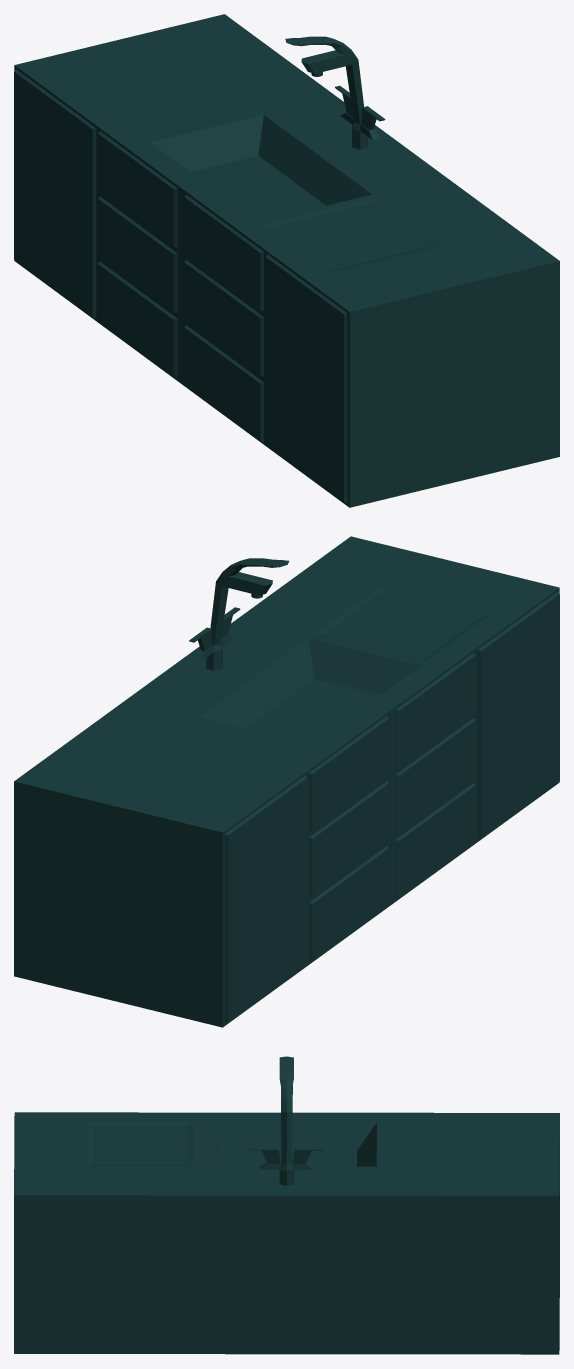
The model's file is Sink.FBX.
3 renders of one model, top to bottom at view 1: azimuth 30°, elevation 25°; view 2: azimuth 150°, elevation 25°; view 3: azimuth 270°, elevation 25°, orthographic. The views are drawn at different scales.
Parts seen in each view (by area): view 1: sink table, tap; view 2: sink table, tap; view 3: sink table, tap.
Boxes of the visible parts, <box> form: sink table: <box>14,14,559,507</box>; tap: <box>285,36,385,149</box>; sink table: <box>14,536,559,1027</box>; tap: <box>189,558,289,670</box>; sink table: <box>14,1112,559,1354</box>; tap: <box>249,1056,323,1185</box>.
Bounding box in the file's own units: 1.24 × 1.75 × 3.39.
